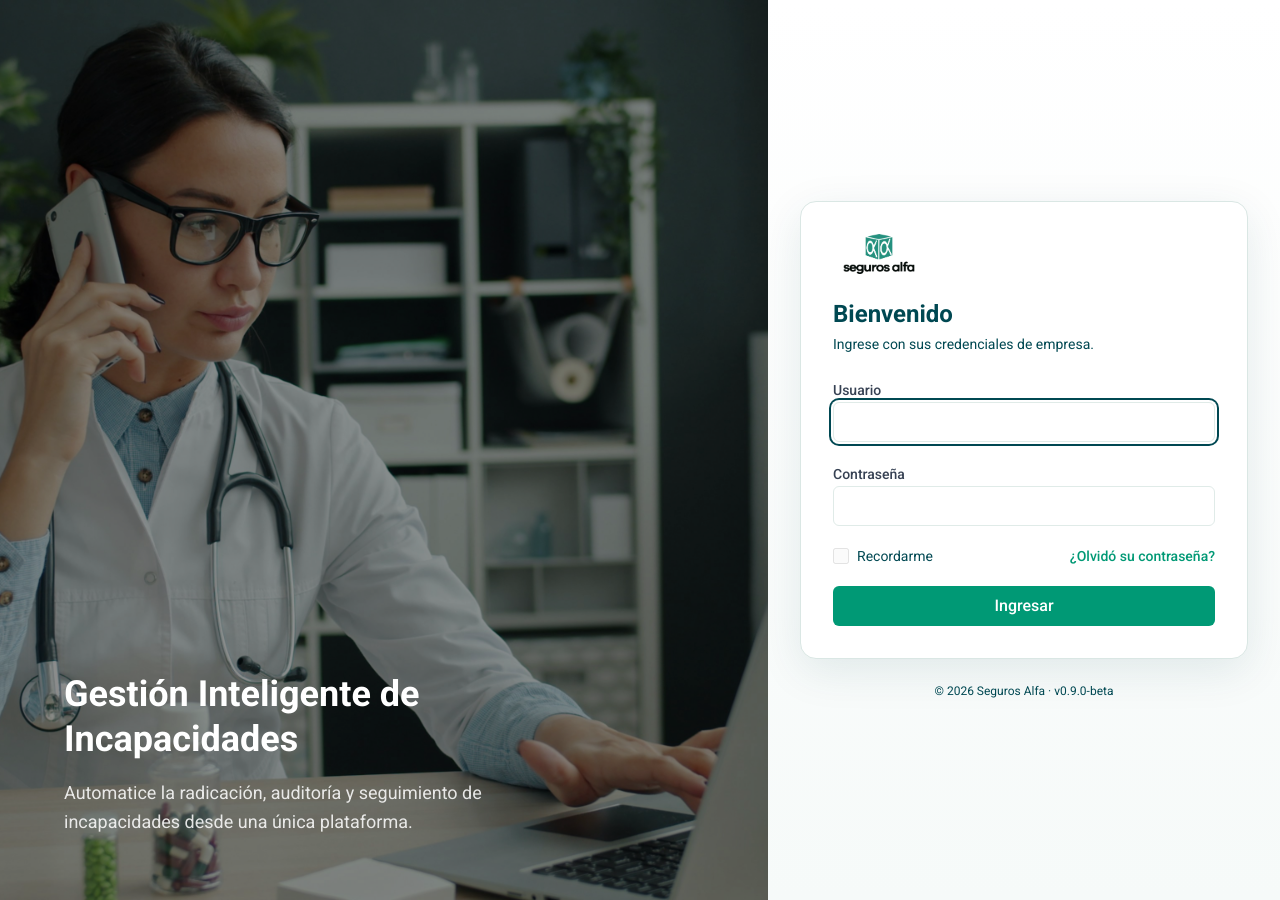
LoginPage › blocks non-EMPRESA users with an access message
This screenshot has width=1280, height=900.
In the field labelled "Usuario": (1024, 422) [833,402,1215,442], type "aud"
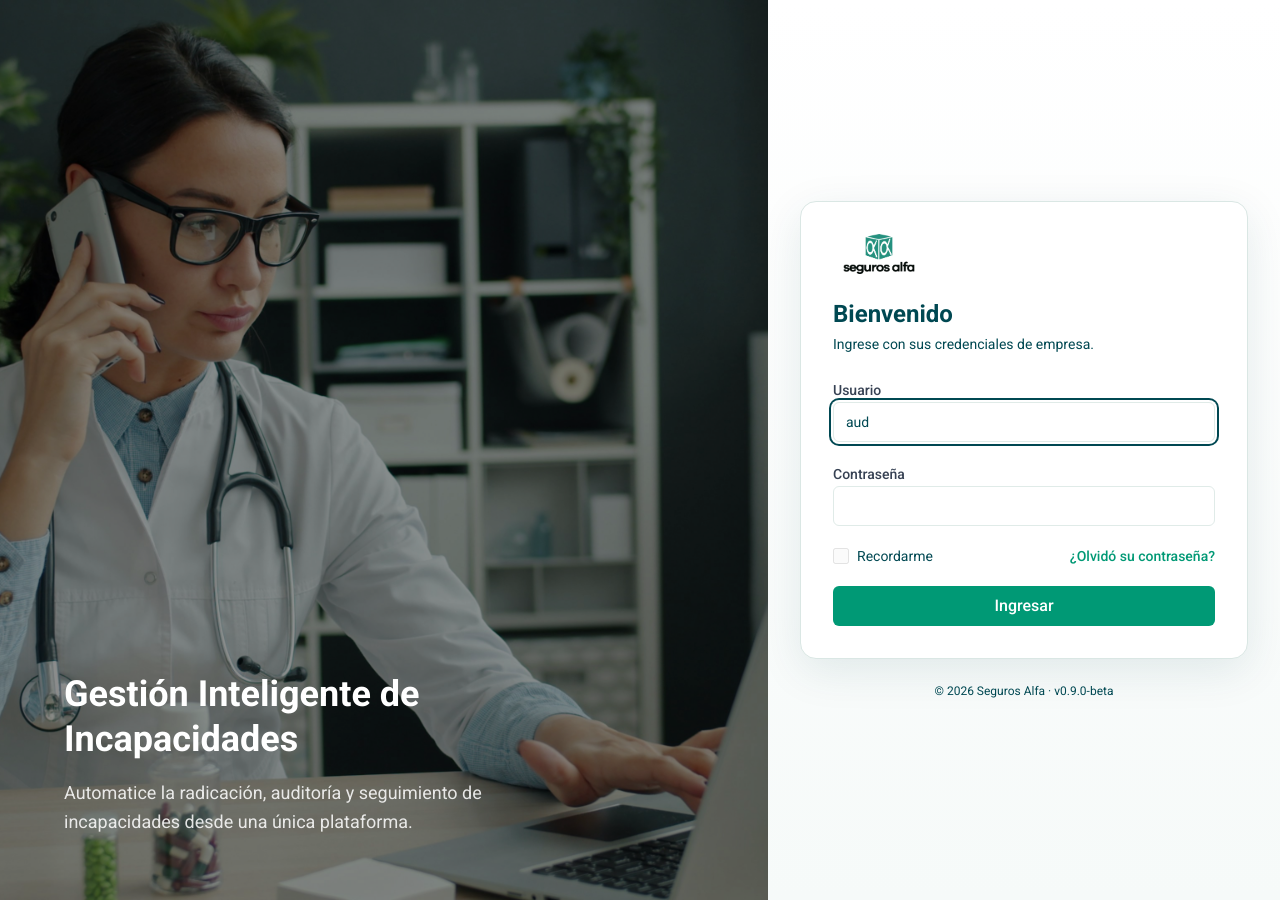
In the password field labelled "Contraseña": (1024, 506) [833,486,1215,526], type "secret12"
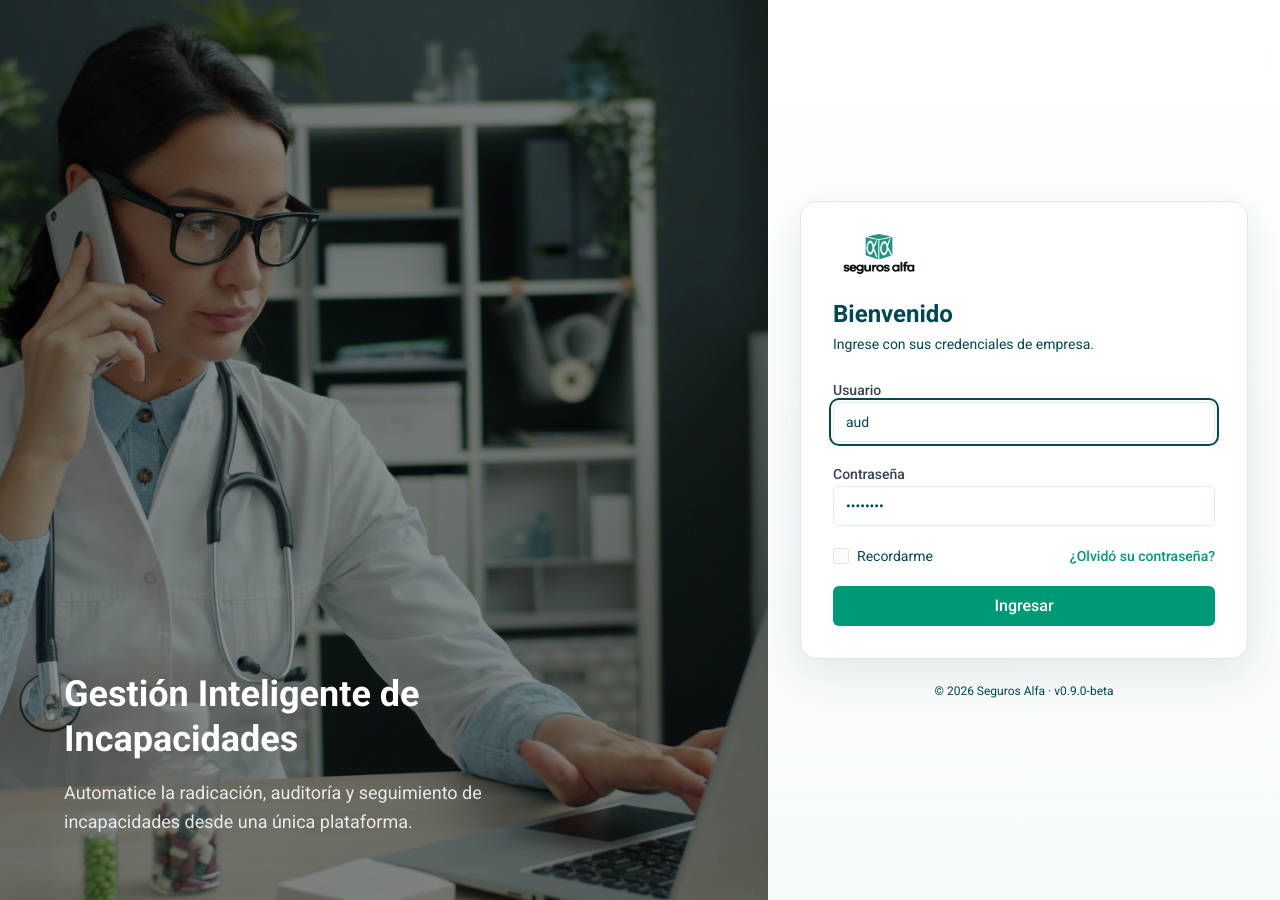
Click the button "Ingresar": (1024, 606) [833,586,1215,626]
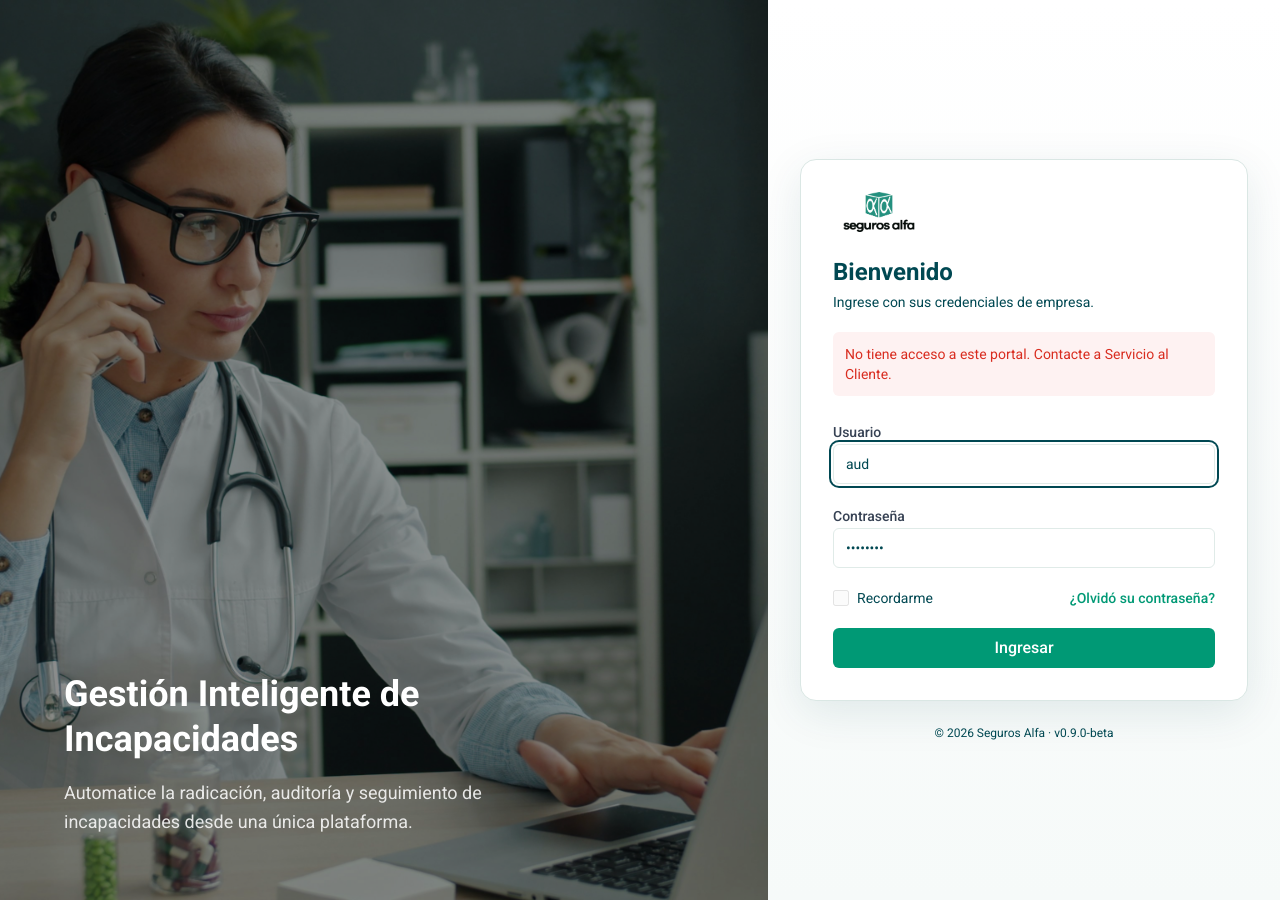
Expected: the text "No tiene acceso a este portal. Contacte a Servicio al Cliente." is shown, [833,332,1215,396]
